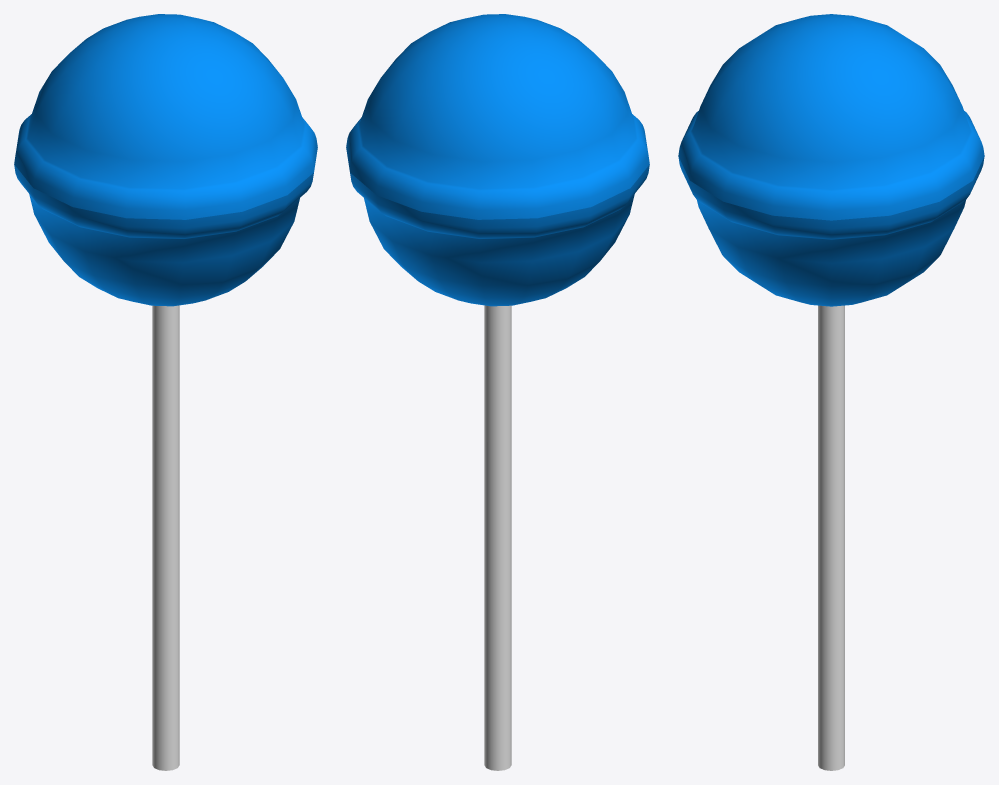
The model's file is Lollipop_2.fbx.
3 views of the same model, side by side, from view 1: azimuth 30°, elevation 25°; view 2: azimuth 150°, elevation 25°; view 3: azimuth 270°, elevation 25° (orthographic).
Visible parts, largest first — view 1: Lollipop_2; view 2: Lollipop_2; view 3: Lollipop_2.
Part boxes in pixels (x1,y1,x2,y2): Lollipop_2: (14, 14, 317, 770); Lollipop_2: (346, 14, 649, 770); Lollipop_2: (678, 14, 984, 770).
Size of the model in its own units: 0.0277 by 0.0736 by 0.0277.
